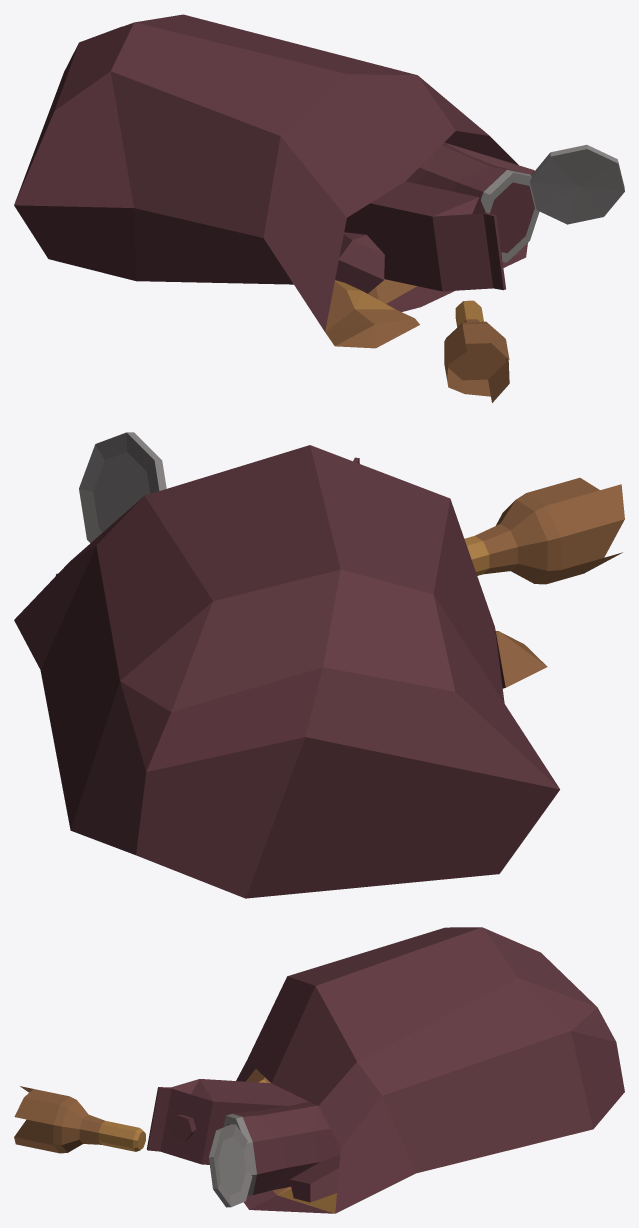
File: garbage-open-a.fbx
The picture shows the model from 3 angles, top to bottom: view 1: azimuth 30°, elevation 25°; view 2: azimuth 150°, elevation 25°; view 3: azimuth 270°, elevation 25°; orthographic projection. The views are drawn at different scales.
Parts seen in each view (by area): view 1: garbage-open-a; view 2: garbage-open-a; view 3: garbage-open-a.
Part boxes in pixels (x1,y1,x2,y2): garbage-open-a: (14,14,624,402); garbage-open-a: (14,432,624,898); garbage-open-a: (14,927,624,1213).
Size of the model in its own units: 0.6968 by 0.2894 by 0.8904.
